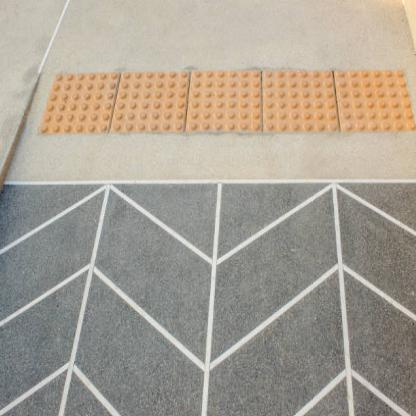podotacti: (40, 67, 415, 131)
